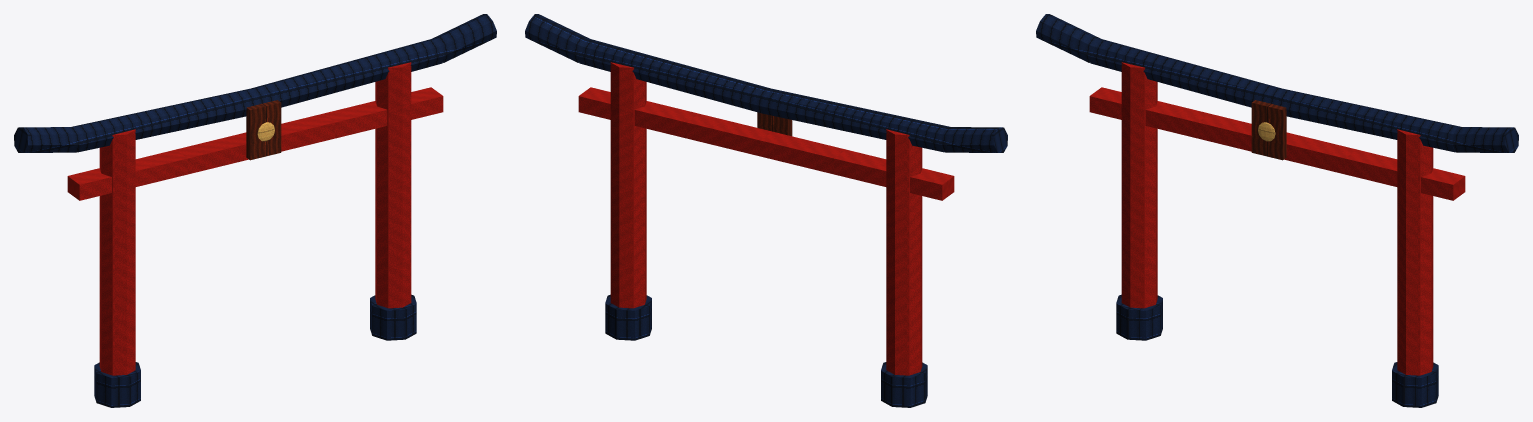
The model's file is torii.glb.
3 renders of one model, left to right at view 1: azimuth 30°, elevation 25°; view 2: azimuth 150°, elevation 25°; view 3: azimuth 330°, elevation 25°, orthographic.
Parts seen in each view (by area): view 1: Body; view 2: Body; view 3: Body.
Part boxes in pixels (bbox=[...]): Body: bbox=[14, 14, 496, 407]; Body: bbox=[525, 14, 1007, 407]; Body: bbox=[1036, 14, 1518, 407].
Size of the model in its own units: 9.91 by 5.86 by 0.88.
Materials: 4 (4 with a texture image).
